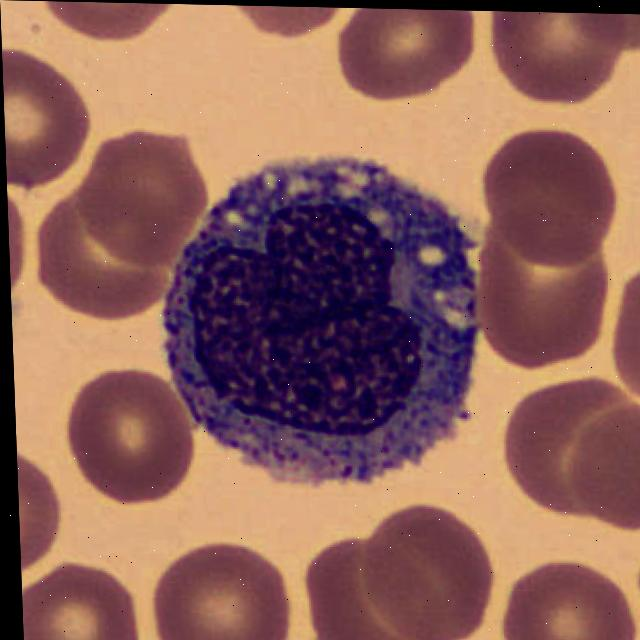monocyte: (150, 163, 488, 498)
rbc: (466, 207, 606, 364), (497, 377, 629, 523), (357, 508, 491, 637), (484, 130, 617, 259), (38, 192, 171, 320), (82, 130, 209, 261), (70, 369, 191, 496), (2, 46, 93, 191), (307, 544, 437, 640), (490, 11, 629, 100), (336, 7, 470, 99), (159, 543, 283, 640), (503, 562, 634, 640), (568, 396, 640, 529), (21, 562, 138, 640), (17, 455, 63, 579), (48, 1, 177, 39), (605, 264, 640, 403), (230, 5, 343, 39), (556, 13, 640, 58), (7, 185, 31, 302), (638, 550, 640, 631)
